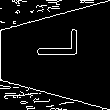L_W: (30, 40, 80, 70)
